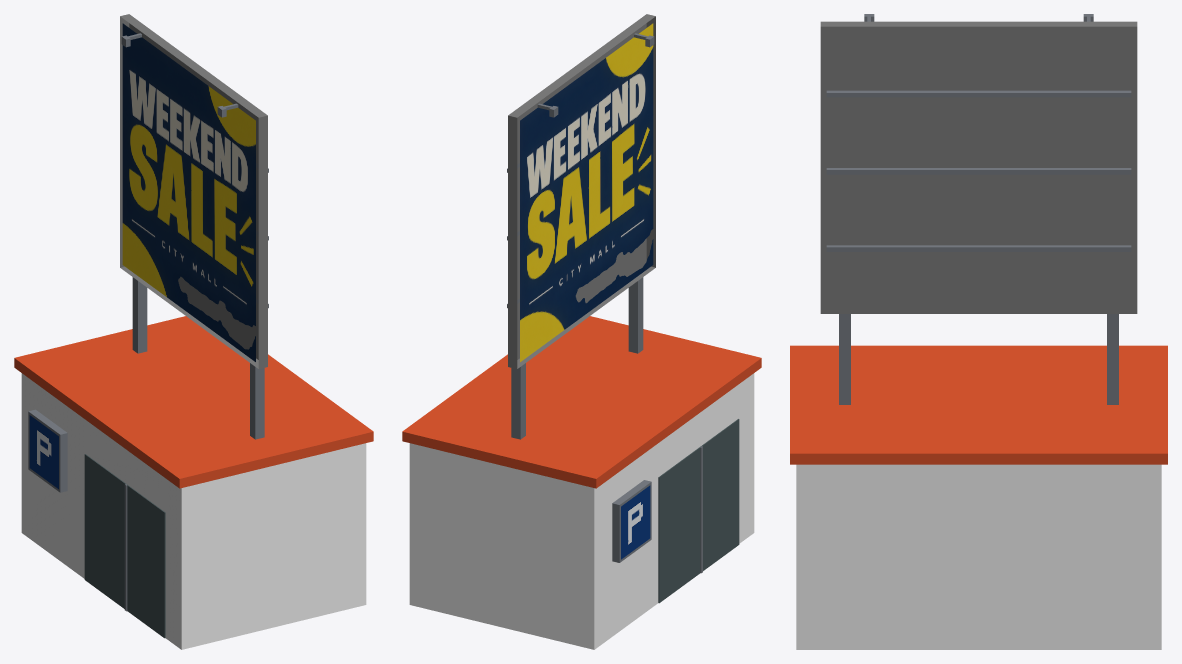
The model's file is roofprop_close.fbx.
3 views of the same model, side by side, from view 1: azimuth 30°, elevation 25°; view 2: azimuth 150°, elevation 25°; view 3: azimuth 270°, elevation 25° (orthographic). The views are drawn at different scales.
Parts seen in each view (by area): view 1: a2008/0/roofprop_close; view 2: a2008/0/roofprop_close; view 3: a2008/0/roofprop_close.
Part boxes in pixels (left/top/right/bottom): a2008/0/roofprop_close: left=14, top=14, right=373, bottom=649; a2008/0/roofprop_close: left=402, top=14, right=761, bottom=649; a2008/0/roofprop_close: left=790, top=14, right=1167, bottom=649.
Size of the model in its own units: 4.3 by 10.4 by 6.2.
